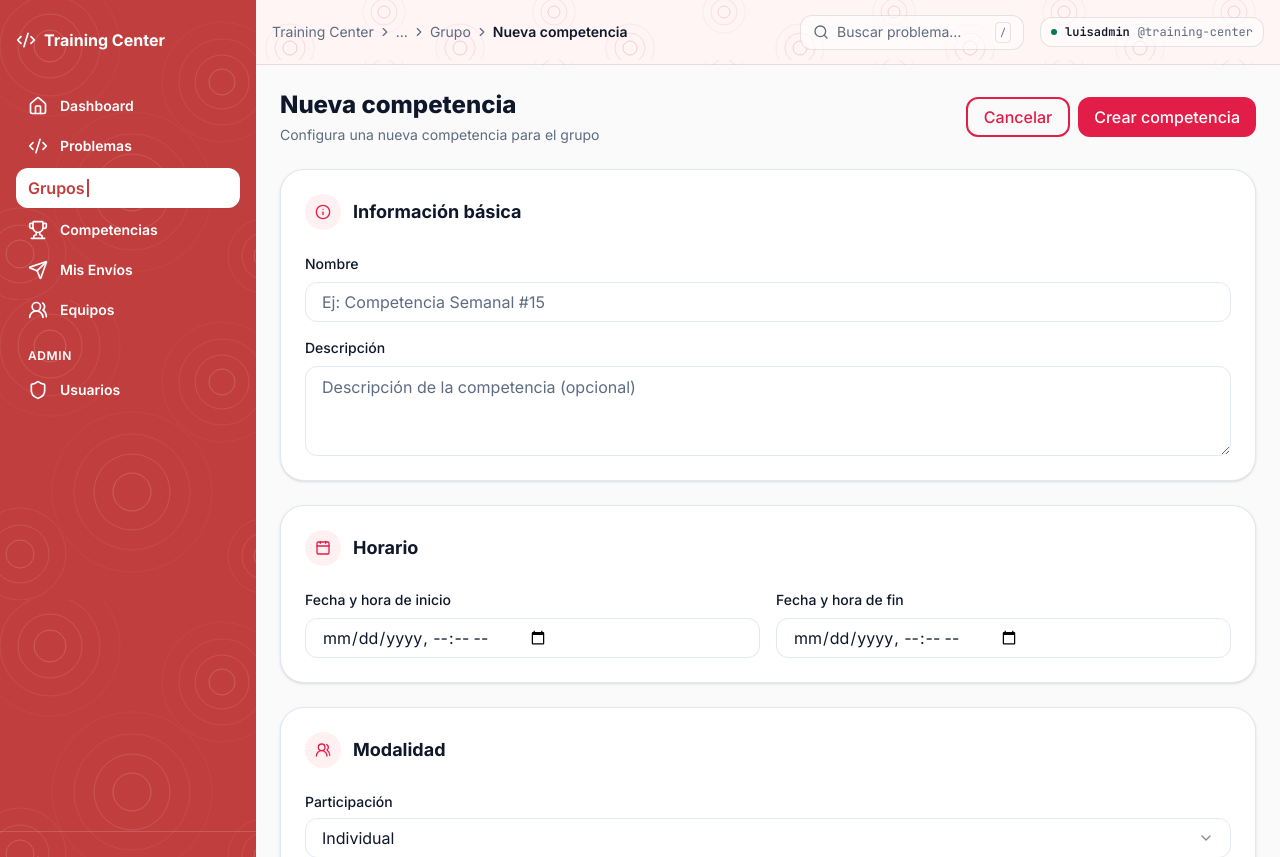
Scenario: ContestFormPage › shows validation error on empty name submit
This screenshot has width=1280, height=857.
Step 1. Click the button "Crear competencia" → [1167, 117], box [1078, 97, 1256, 137]
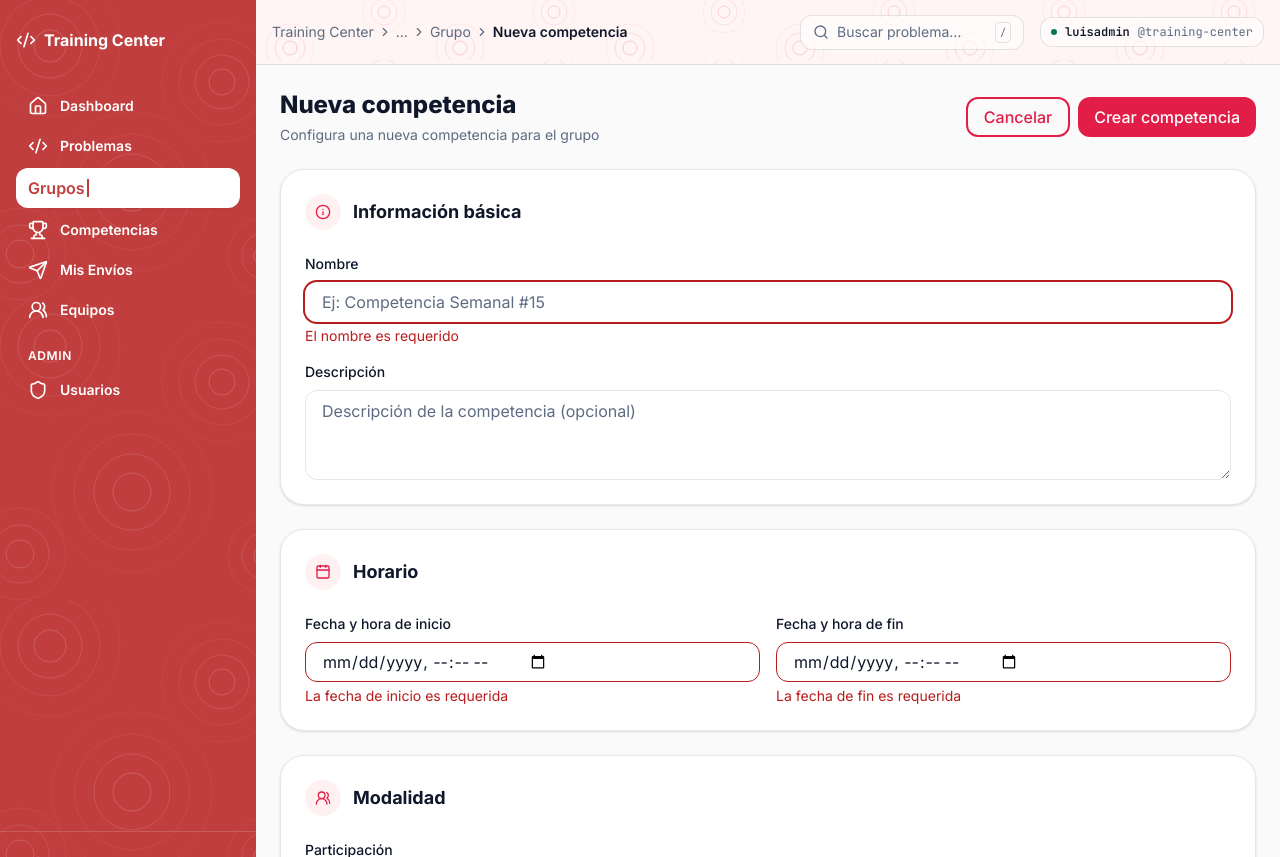
Now the text "El nombre es requerido" is shown, box [305, 327, 459, 344]
